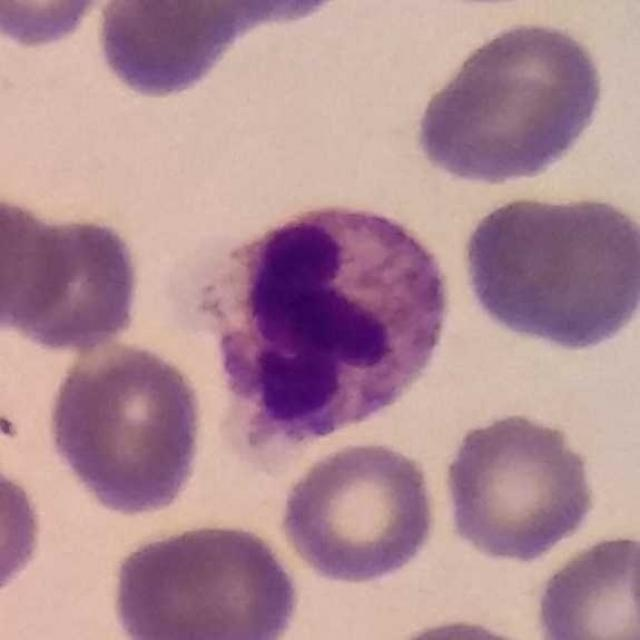Neutrophil: (184, 187, 464, 474)
RBC: (408, 15, 612, 189), (42, 338, 210, 519), (462, 188, 639, 355), (438, 408, 602, 566), (276, 437, 442, 588), (107, 516, 305, 640), (9, 210, 146, 356), (90, 0, 243, 104), (532, 530, 640, 640), (0, 182, 69, 342), (0, 453, 48, 607), (0, 0, 111, 51), (378, 613, 554, 640), (185, 0, 329, 32)
